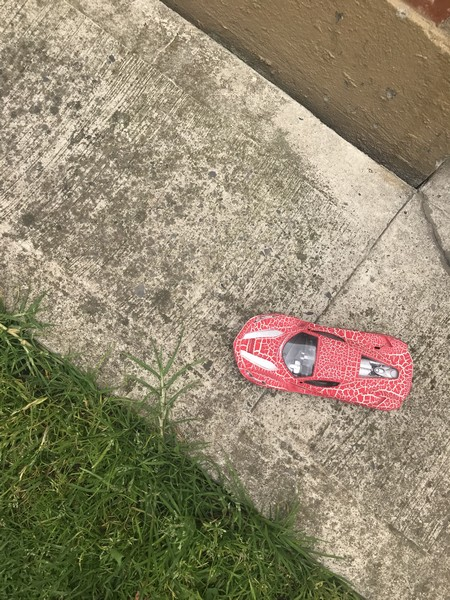RC: (232, 313, 413, 412)
